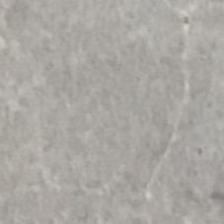Non_Crack: (38, 14, 169, 204)
